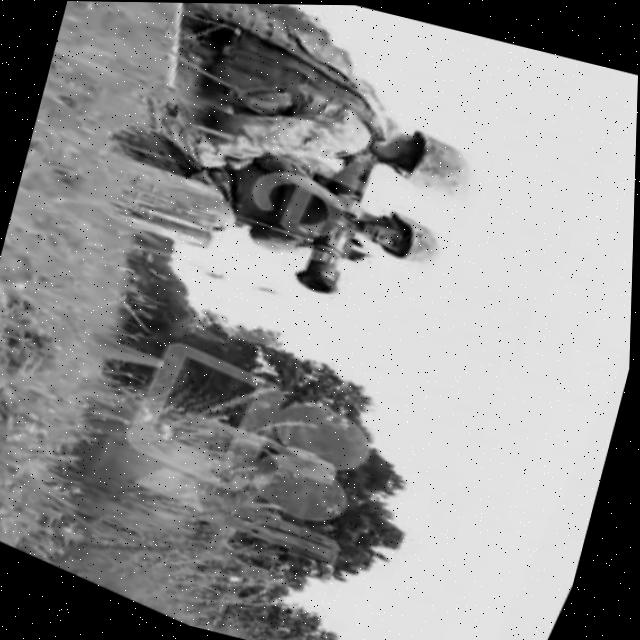rocket: (279, 135, 396, 305)
